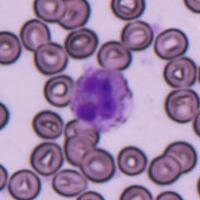E: (69, 67, 134, 134)
